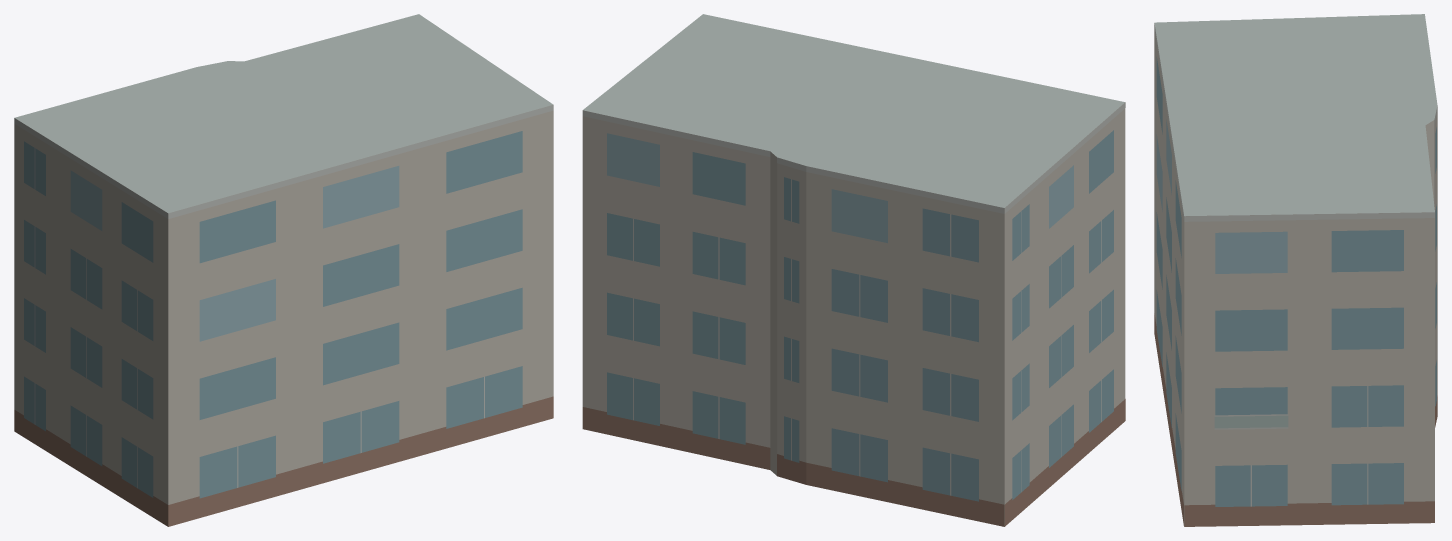
The model's file is survey-upis-32971253.glb.
3 views of the same model, side by side, from view 1: azimuth 30°, elevation 25°; view 2: azimuth 150°, elevation 25°; view 3: azimuth 270°, elevation 25° (orthographic). The views are drawn at different scales.
Parts seen in each view (by area): view 1: survey-upis-32971253.tmp; view 2: survey-upis-32971253.tmp; view 3: survey-upis-32971253.tmp.
Boxes of the visible parts, x1,y1,x2,y2 form: survey-upis-32971253.tmp: (14,14,553,526); survey-upis-32971253.tmp: (582,14,1125,526); survey-upis-32971253.tmp: (1154,14,1437,526).
Size of the model in its own units: 18.42 by 13.2 by 10.91.
